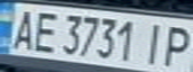1: (115, 17, 142, 62)
3: (57, 11, 84, 56), (97, 15, 118, 61)
7: (75, 12, 100, 59)
A: (6, 6, 42, 52)
E: (27, 7, 63, 54)
I: (139, 20, 172, 65)
P: (157, 21, 193, 69)
